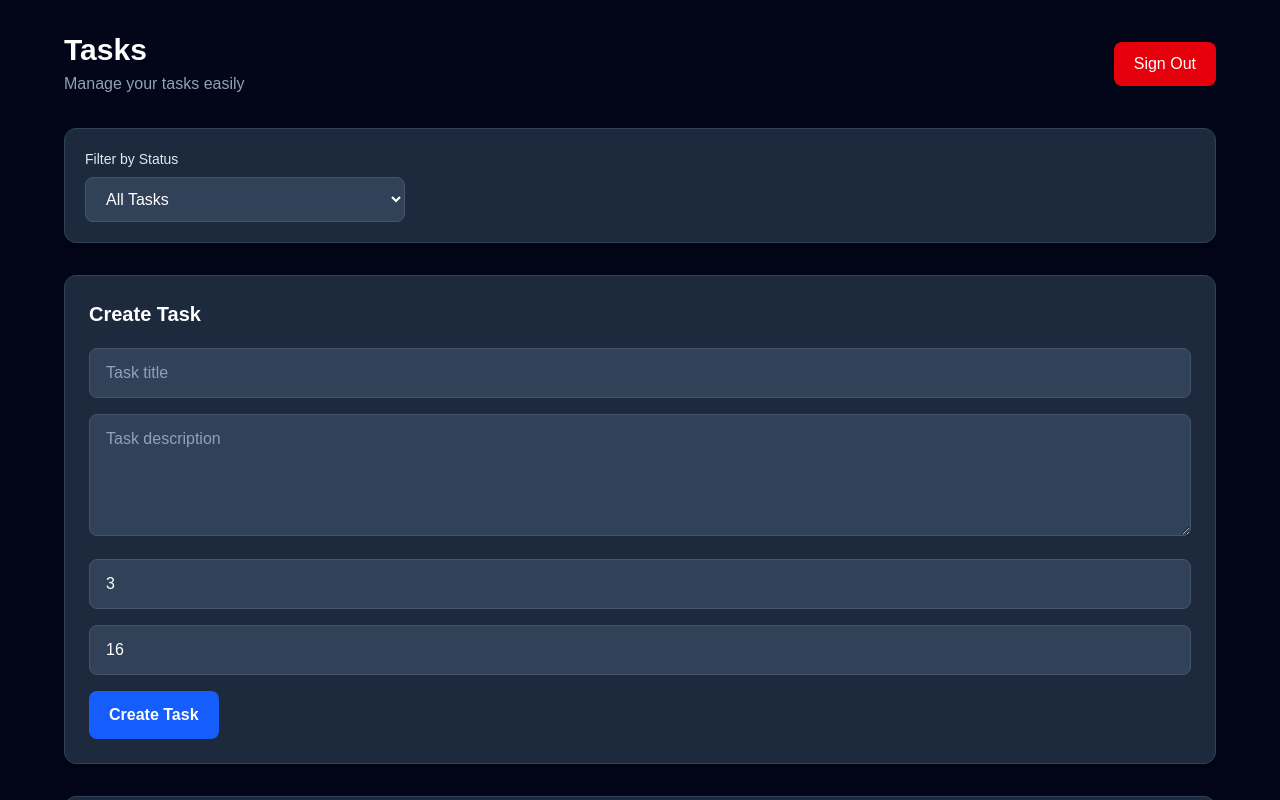
Scenario: TasksPage create task › puts the new task in the list on a 201
This screenshot has width=1280, height=800.
Type "New Test Task" into the field with placeholder "Task title" at (640, 373), box x1=89 y1=348 x2=1191 y2=398
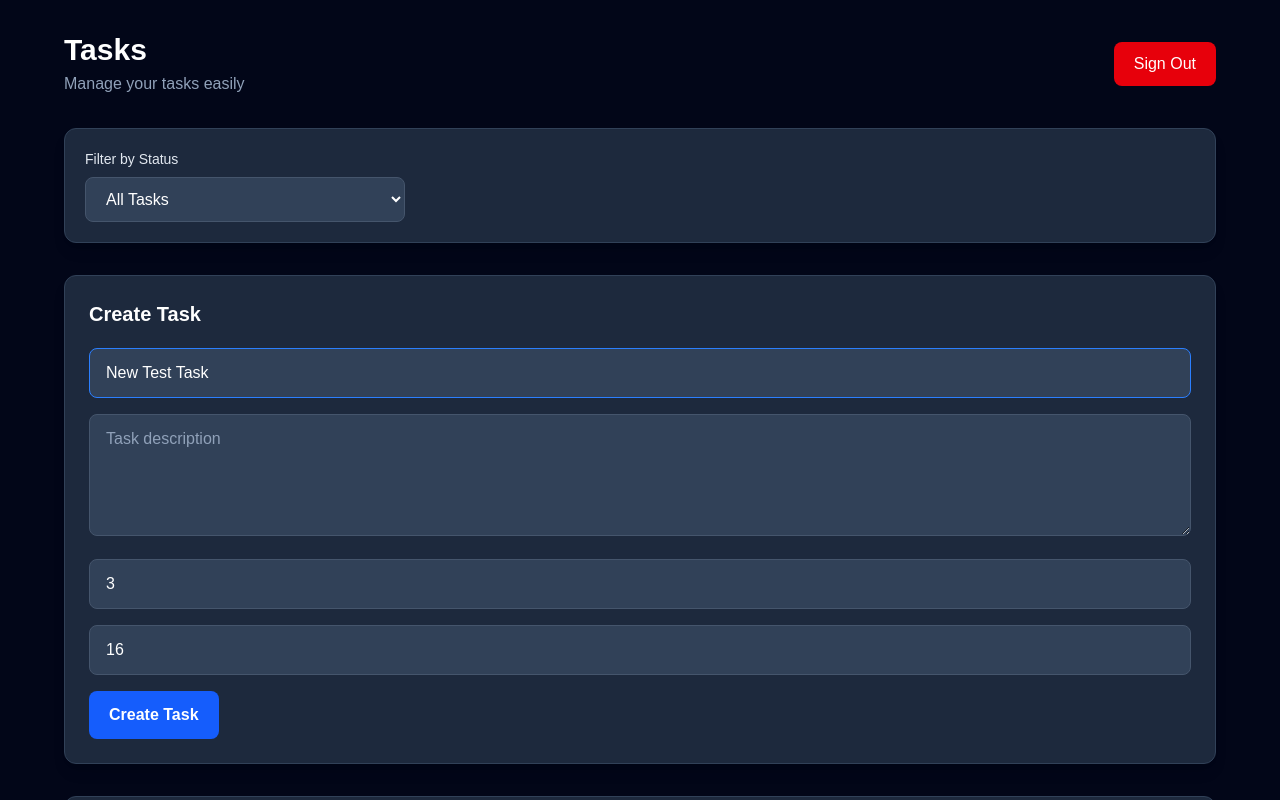
Type "Created from test" into the text box with placeholder "Task description" at (640, 475), box x1=89 y1=414 x2=1191 y2=536
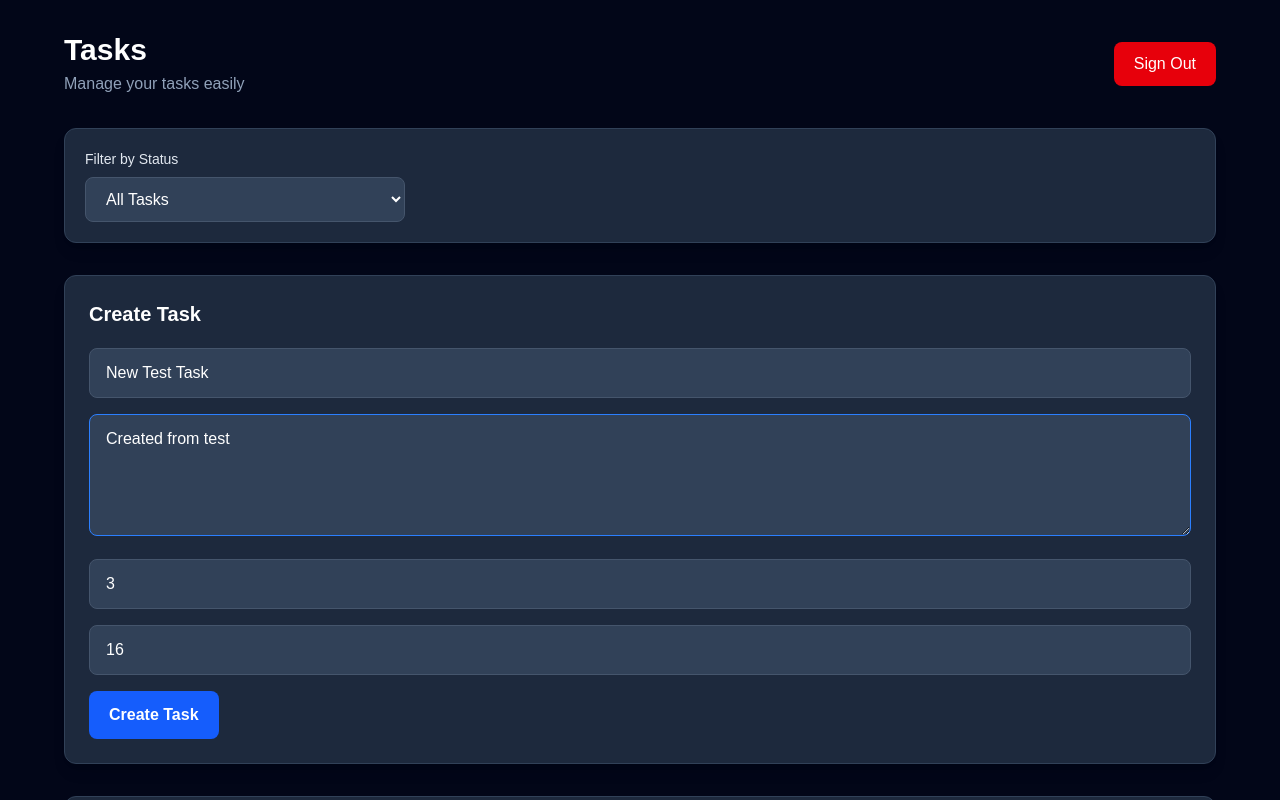
Click the button "Create Task" at (154, 715), box x1=89 y1=691 x2=218 y2=739
(page scrolled)
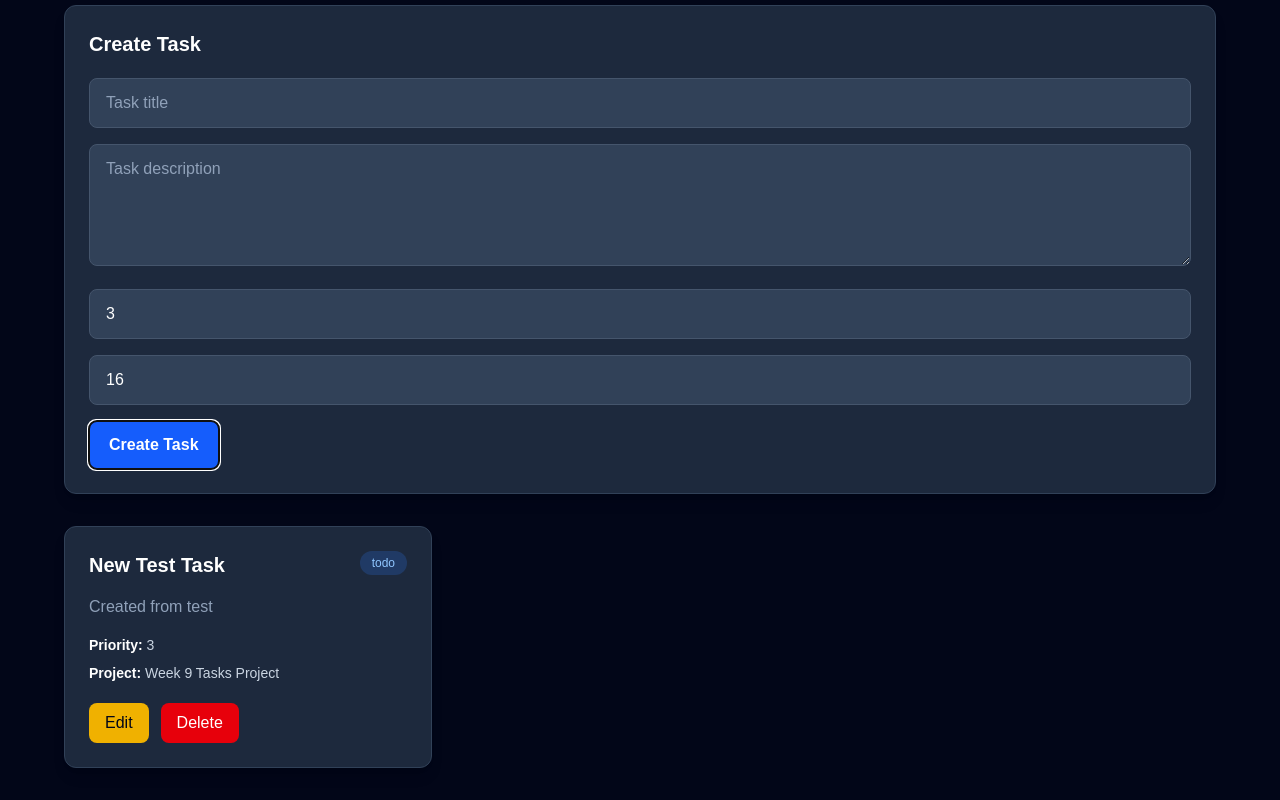
Expected: the heading "New Test Task" is shown, x1=89 y1=551 x2=225 y2=579
Expected: the text "Created from test" is shown, x1=89 y1=598 x2=213 y2=615
